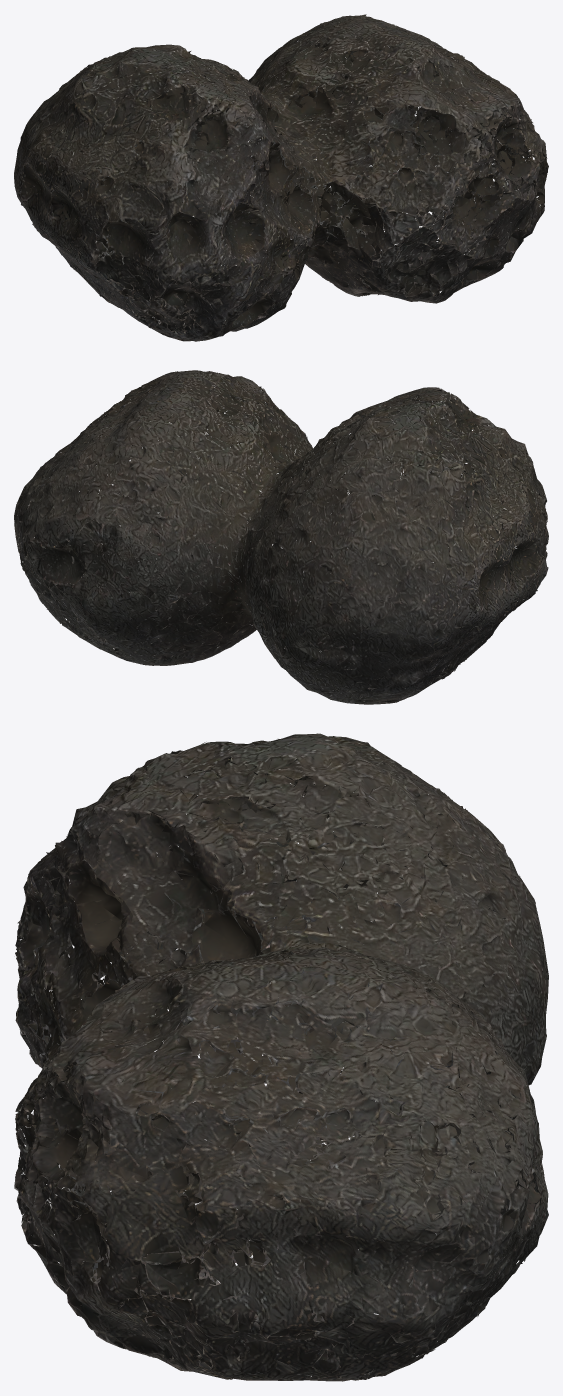
Rendered from asteroid_rare_3.glb.
The picture shows the model from 3 angles, top to bottom: view 1: azimuth 30°, elevation 25°; view 2: azimuth 150°, elevation 25°; view 3: azimuth 270°, elevation 25°; orthographic projection. The views are drawn at different scales.
Parts seen in each view (by area): view 1: model; view 2: model; view 3: model.
Part boxes in pixels (box(x1,y1,x2,y2)): model: box(14, 14, 548, 341); model: box(14, 370, 548, 704); model: box(14, 733, 548, 1381).
Bounding box in the file's own units: 1.9 × 1.14 × 1.24.
1 material, 1 textured.
